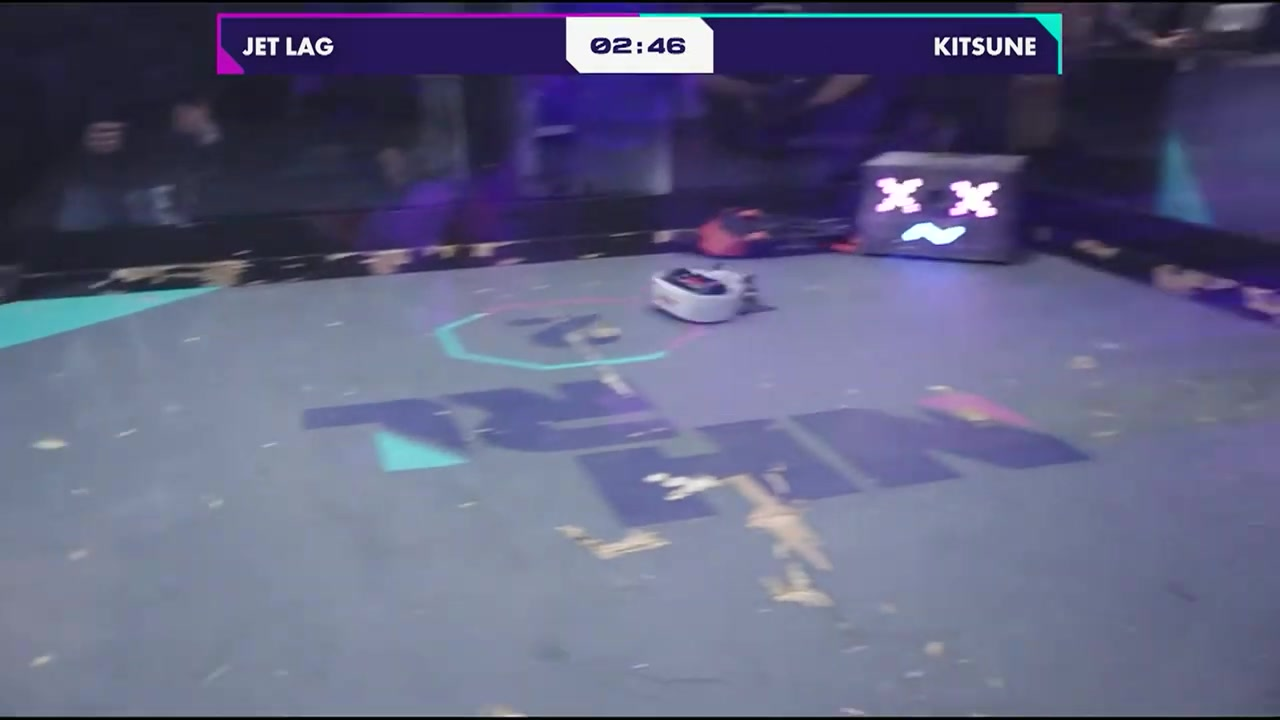combatbot: (699, 205, 850, 259), (647, 262, 779, 323)
housebot: (854, 151, 1031, 266)
